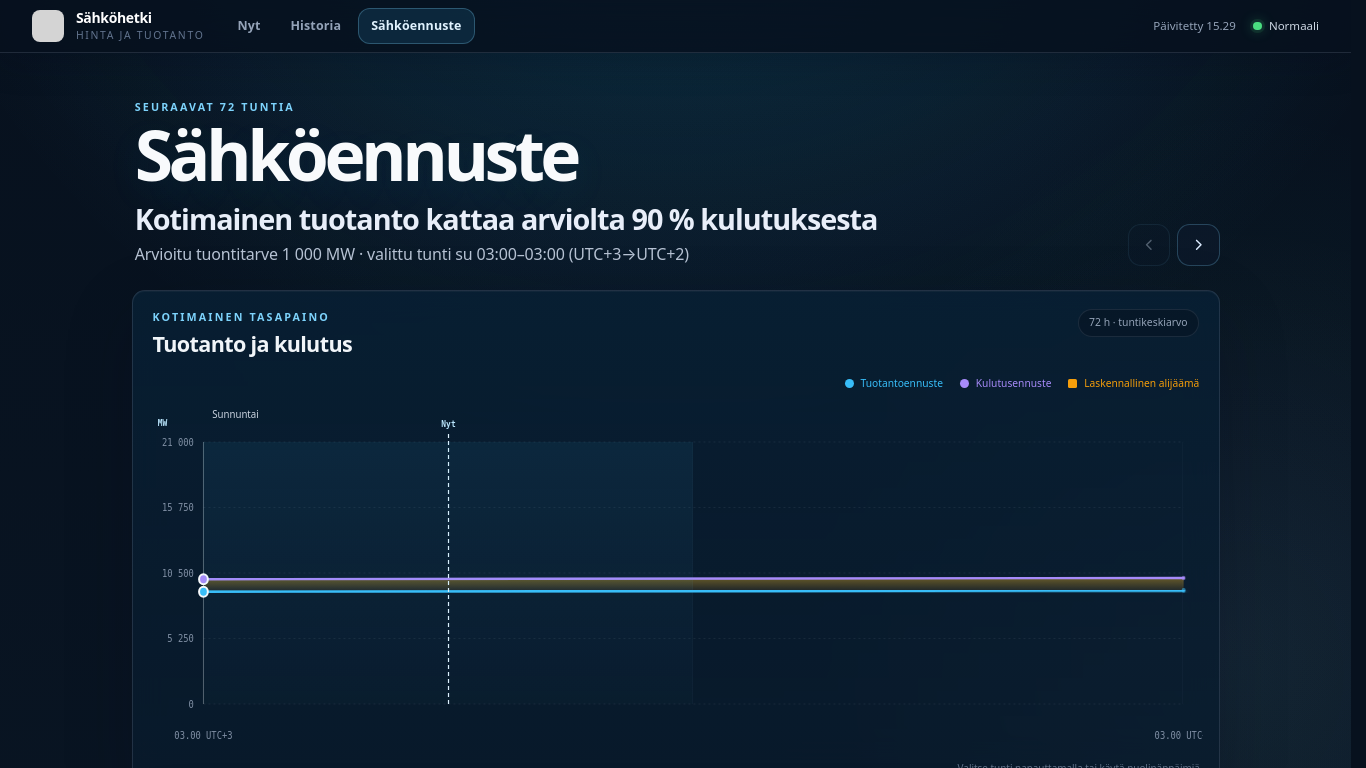
Test: ForecastExplorer › shows distinct clock offsets for the repeated autumn hour in summary and table
Expected: the element with test id "selected-hour-summary" shows "UTC+3→UTC+2", [355,243,689,265]
Click the button named "Seuraava tunti" at (1198, 245), box [1177,224,1220,266]
(page scrolled)
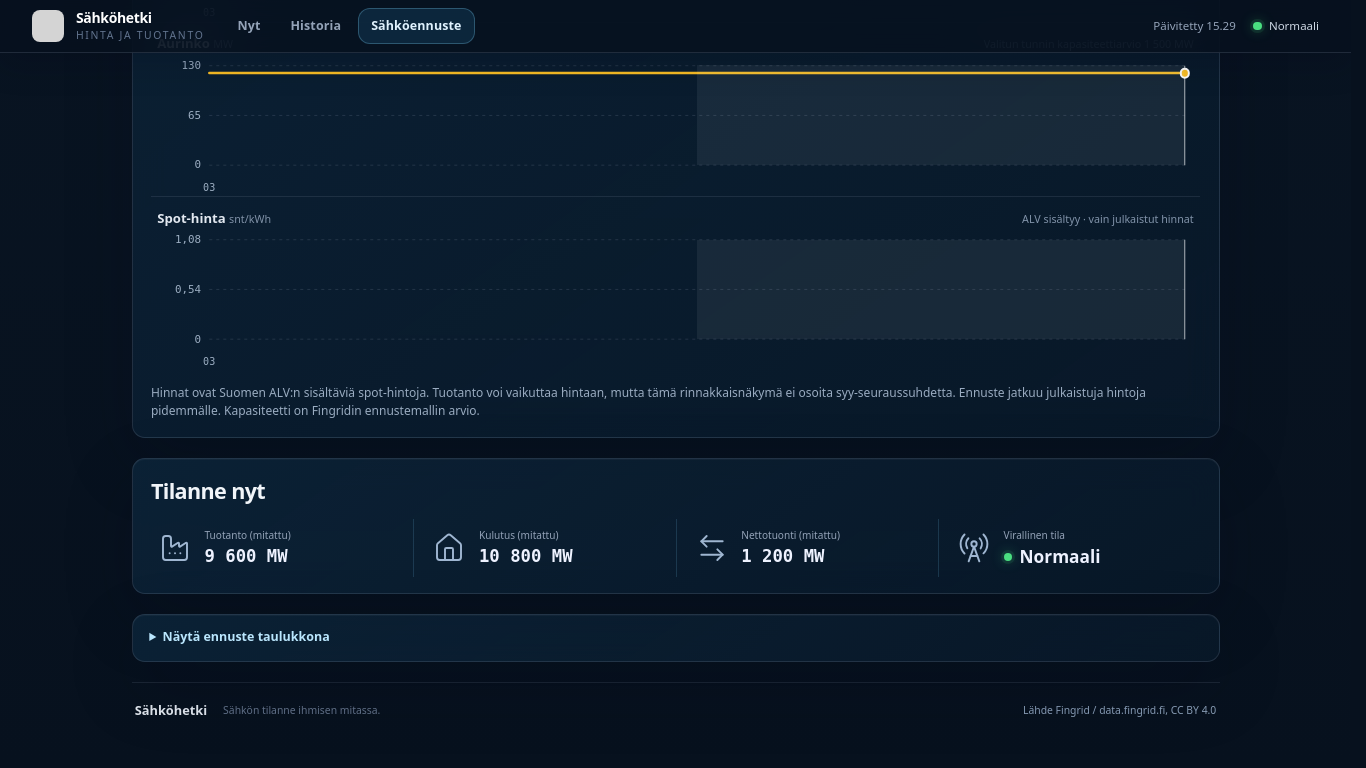
Click the heading "Näytä ennuste taulukkona" at (246, 637), box [162,628,330,645]
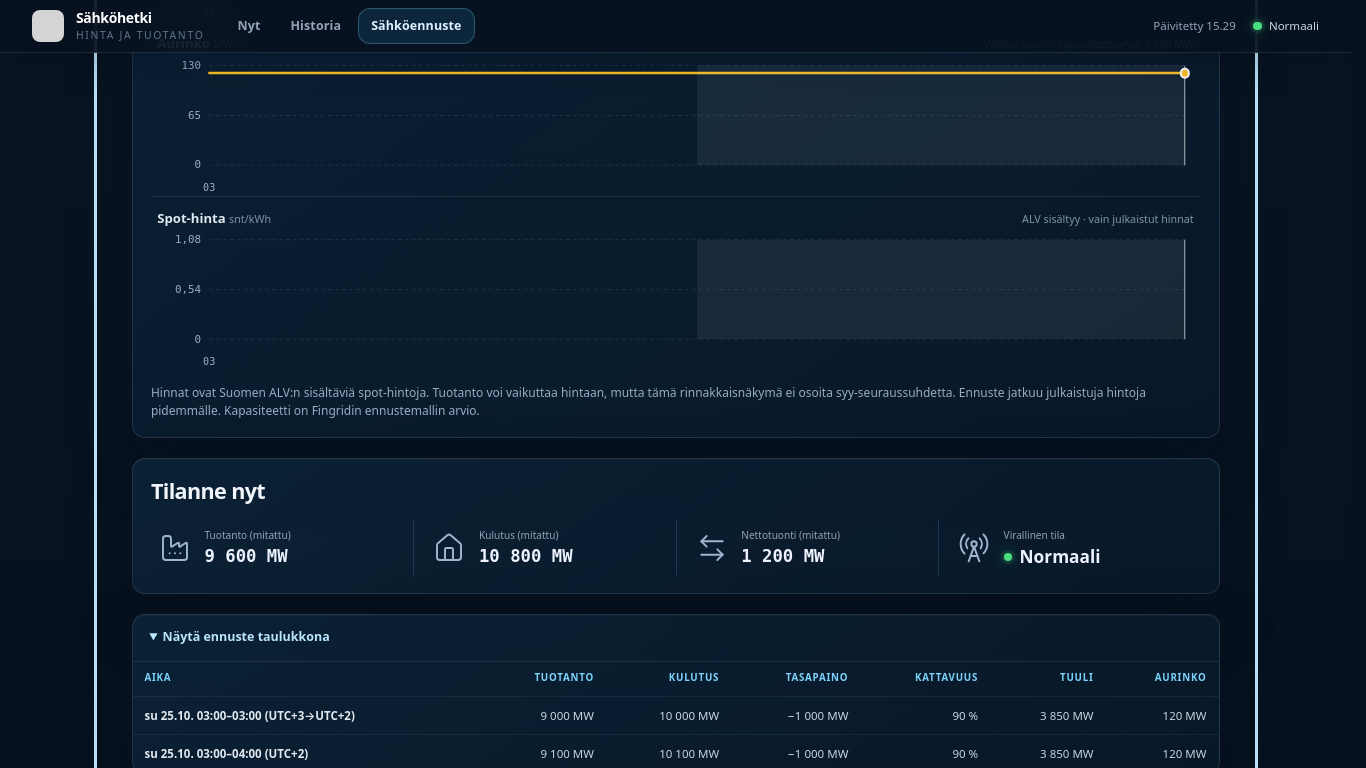
Expected: the text "su 25.10. 03:00–03:00 (UTC+3→UTC+2)" is shown, [144,708,355,723]
Expected: the text "su 25.10. 03:00–04:00 (UTC+2)" is shown, [144,746,308,761]
